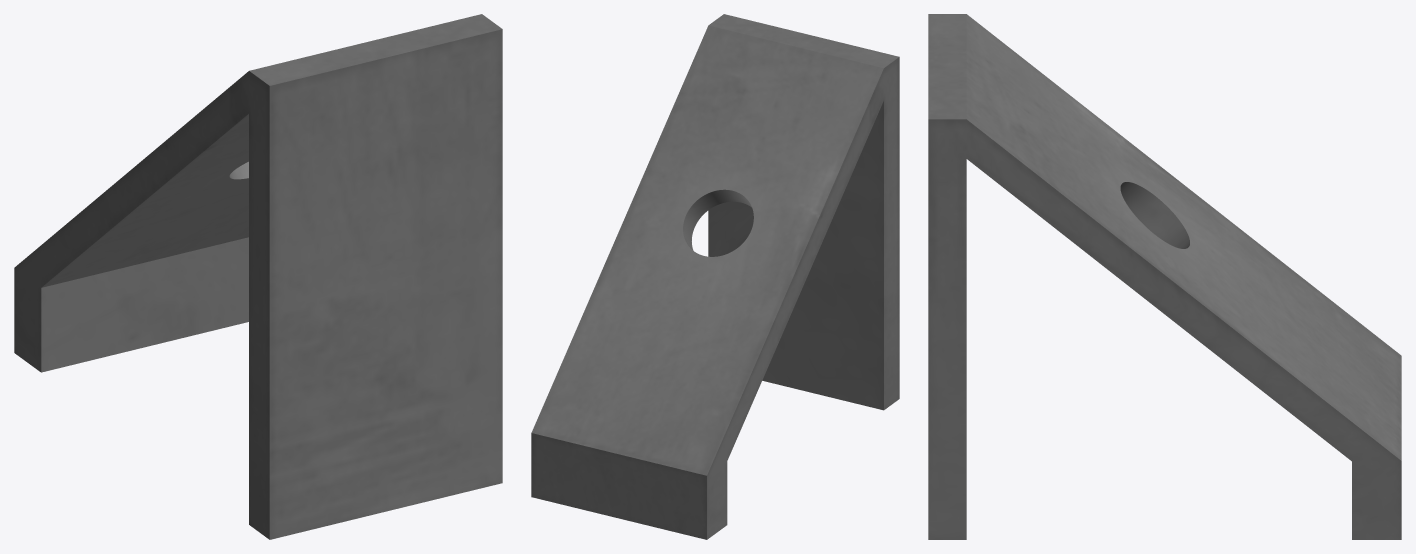
The model's file is GUN_HOLDER.fbx.
3 views of the same model, side by side, from view 1: azimuth 30°, elevation 25°; view 2: azimuth 150°, elevation 25°; view 3: azimuth 270°, elevation 25° (orthographic). The views are drawn at different scales.
Visible parts, largest first — view 1: Stand; view 2: Stand; view 3: Stand.
Part boxes in pixels (bbox=[...]): Stand: bbox=[14, 14, 502, 539]; Stand: bbox=[531, 14, 899, 539]; Stand: bbox=[928, 14, 1401, 539].
Bounding box in the file's own units: 9.99 × 18.61 × 18.98.
